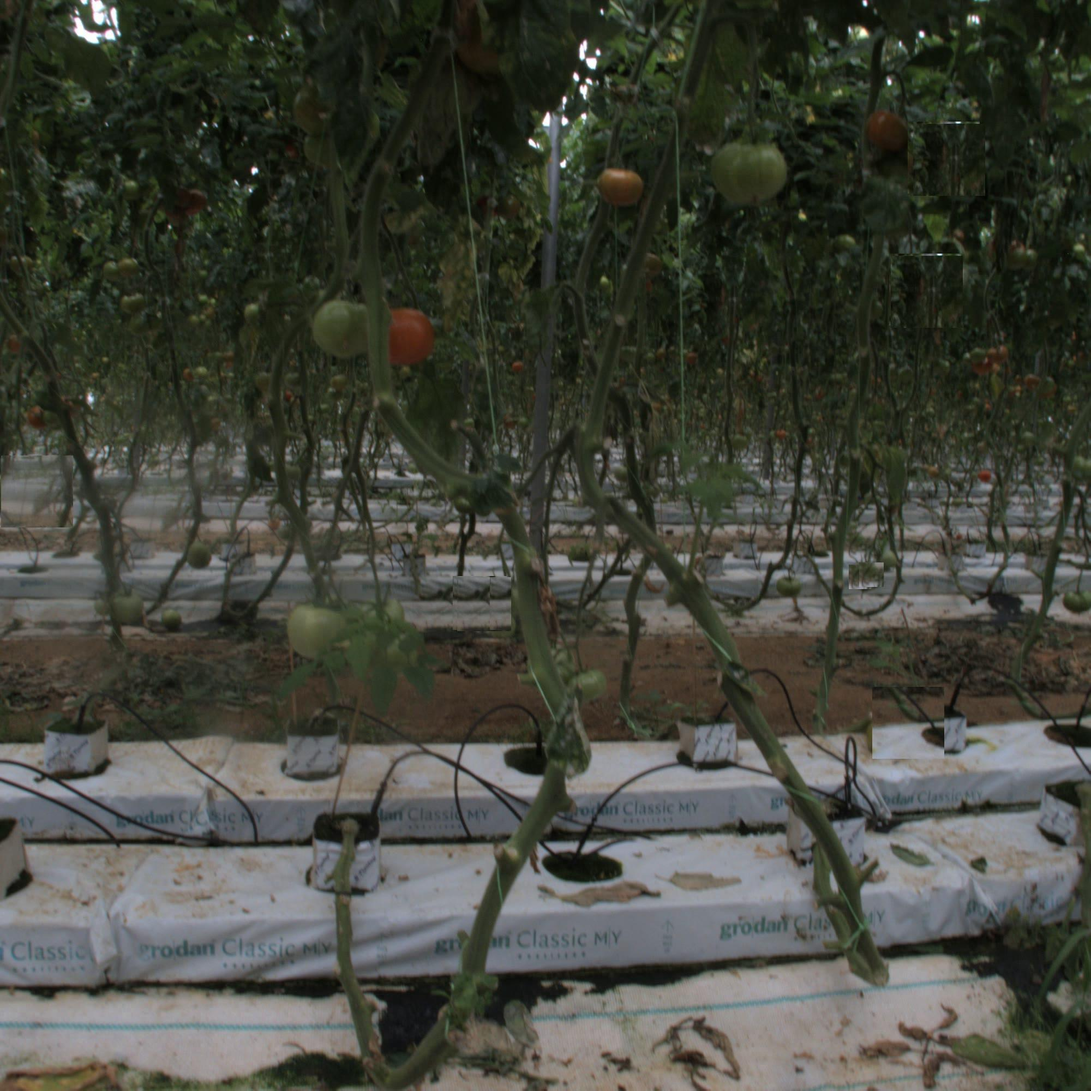['unripe', 'semi-ripe', 'fully-ripe']: (713, 132, 787, 206), (314, 299, 371, 356), (286, 600, 343, 657)
